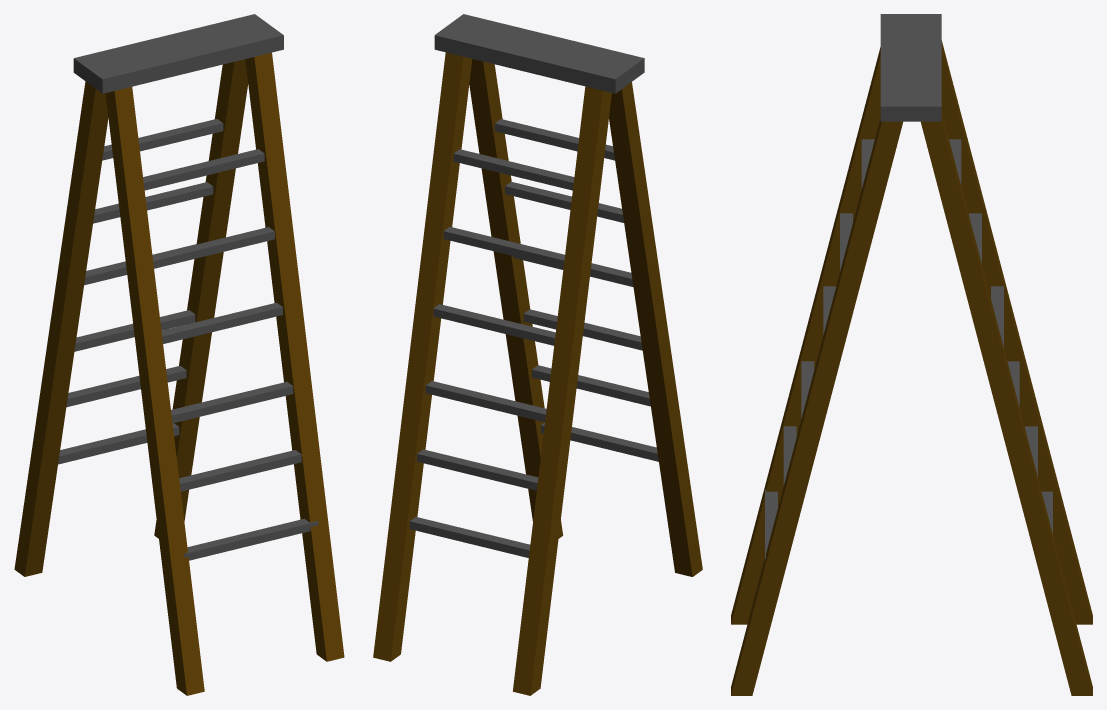
The model's file is Ladder.fbx.
3 renders of one model, left to right at view 1: azimuth 30°, elevation 25°; view 2: azimuth 150°, elevation 25°; view 3: azimuth 270°, elevation 25°, orthographic. The views are drawn at different scales.
Visible parts, largest first — view 1: cube1; view 2: cube1; view 3: cube1.
Boxes of the visible parts, x1,y1,x2,y2 form: cube1: [14, 14, 344, 695]; cube1: [373, 14, 702, 695]; cube1: [731, 14, 1092, 695].
Bounding box in the file's own units: 51.27 × 153 × 84.63.
